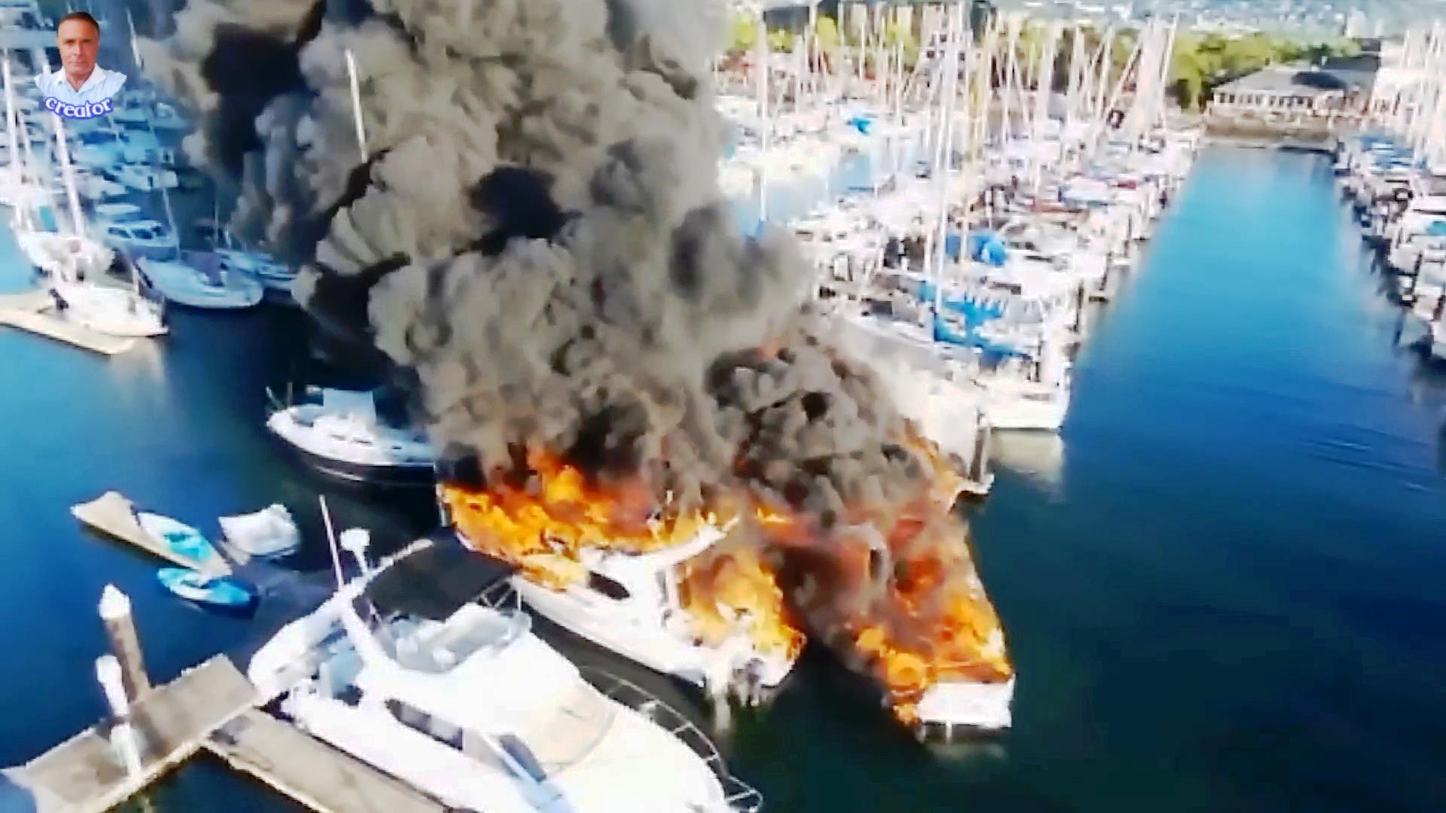fire: (895, 469, 996, 696), (447, 448, 618, 562), (697, 539, 788, 652)
smoke: (330, 172, 727, 419), (280, 0, 705, 185), (701, 333, 920, 521)
